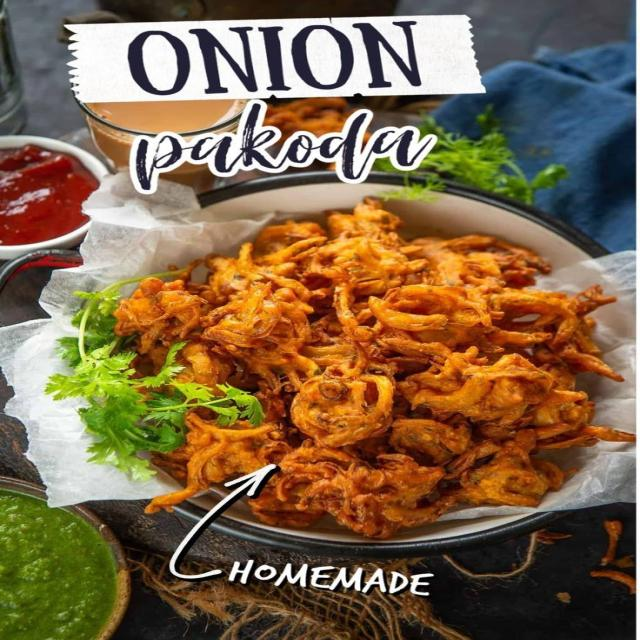DHOKLA: (116, 186, 635, 550)
